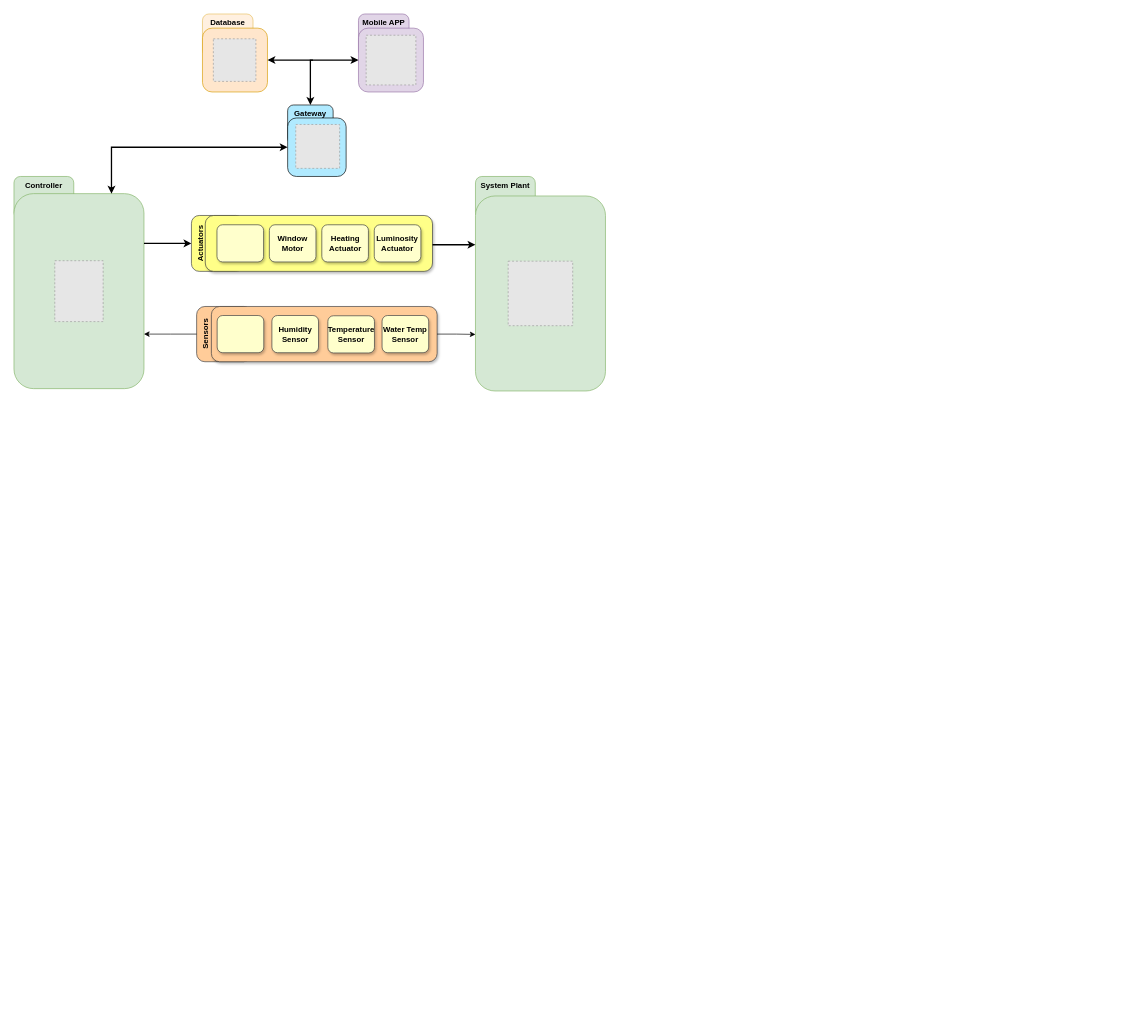
The diagram is 1146 pixels wide and 1030 high, and some of its shapes have lost their labels. Grey dashed boxes stand in for pictures. Here are the shapes that lost their labels. From the top down, the centre of each, then its label:
At point (240, 244): "Water Pump".
At point (241, 334): "Luminosity Sensor".
